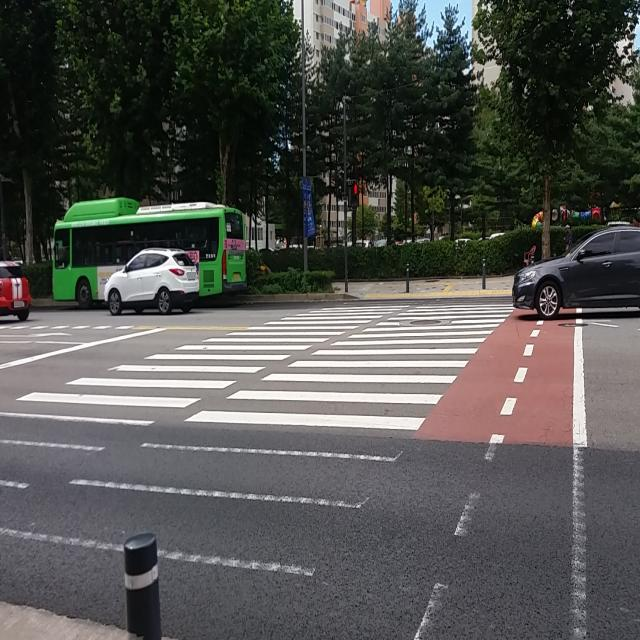빨간불: (346, 181, 359, 209)
횡단보도: (9, 301, 520, 640)
